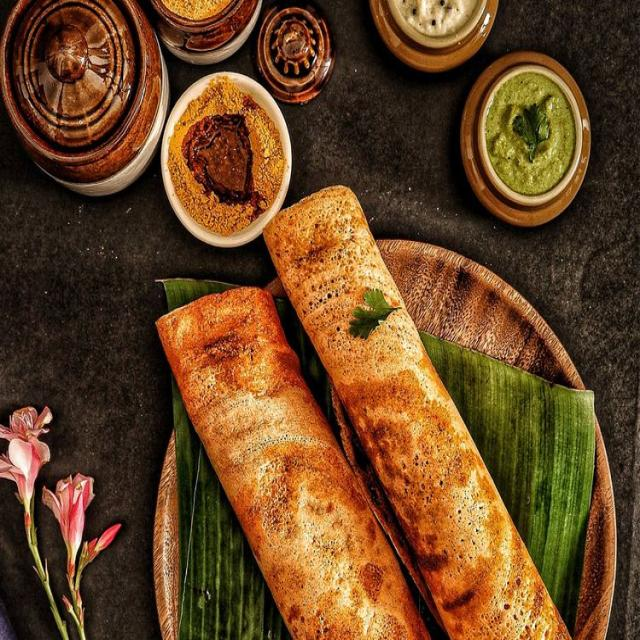chutney: (475, 54, 589, 198), (382, 0, 488, 51)
dosa: (260, 184, 580, 639), (144, 275, 439, 639)
